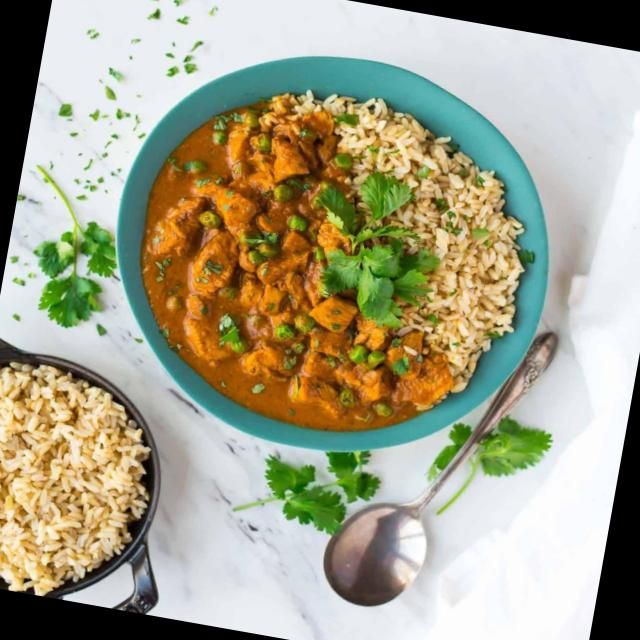chicken: (122, 96, 446, 445)
rice: (0, 362, 157, 599), (392, 175, 530, 402), (332, 96, 439, 198)
